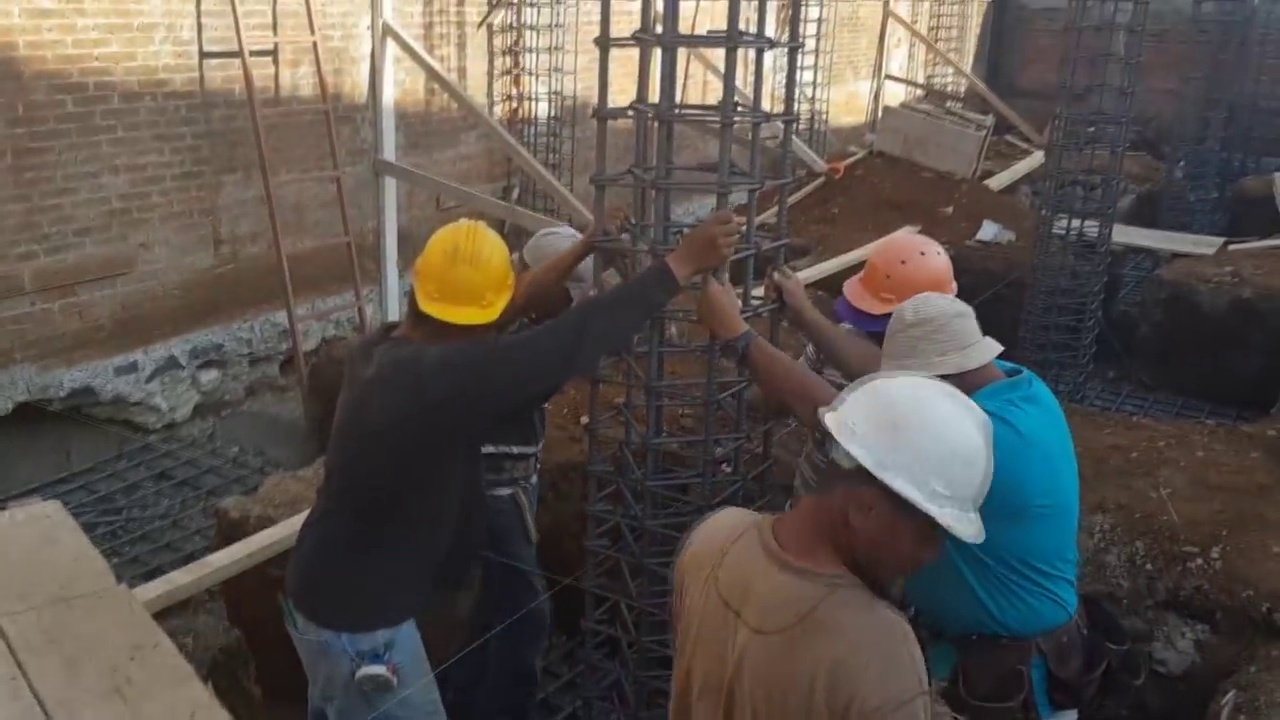helmet: (814, 377, 986, 551), (401, 221, 517, 332), (841, 230, 961, 315)
helmet-off: (884, 288, 1010, 388), (511, 227, 600, 324)
helmet-on: (756, 376, 989, 578), (378, 208, 517, 350)
person: (267, 192, 718, 713), (712, 265, 1100, 720), (658, 375, 991, 720), (463, 202, 632, 692)
